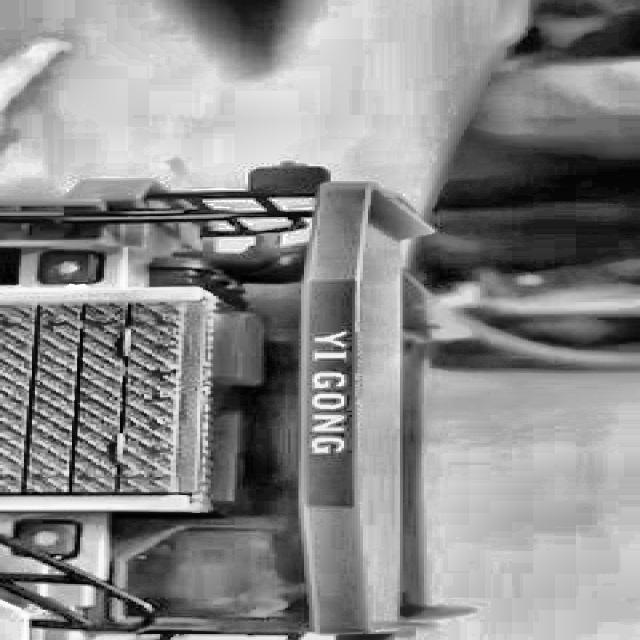dump_truck: (0, 169, 453, 640)
